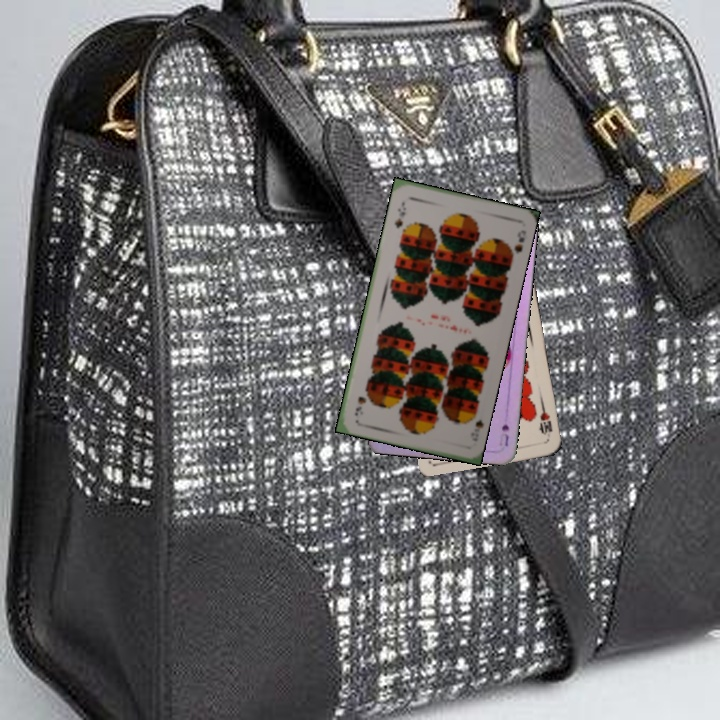H10: (535, 401, 555, 437)
S9: (391, 198, 409, 231), (465, 406, 485, 435)
SU: (495, 420, 512, 449)
